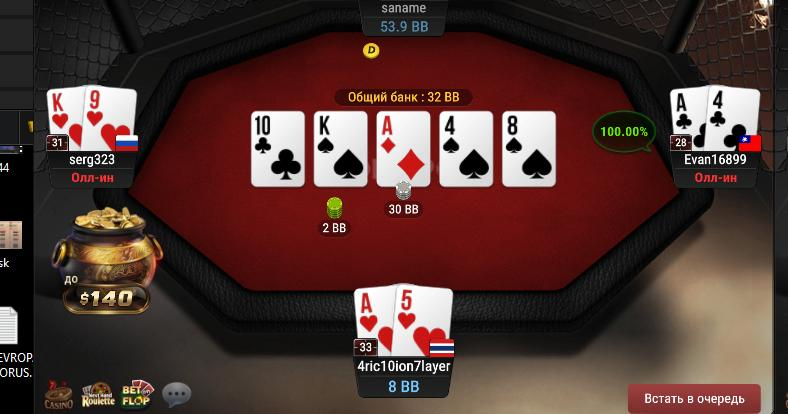10c: (252, 111, 304, 187)
4c: (707, 86, 758, 152)
4s: (439, 112, 493, 186)
5h: (395, 284, 454, 356)
8s: (503, 111, 556, 186)
9h: (84, 85, 138, 150)
Ac: (669, 87, 707, 151)
Ad: (377, 112, 430, 186)
Ah: (353, 284, 394, 354)
Kh: (47, 87, 84, 150)
Ks: (314, 112, 367, 185)
